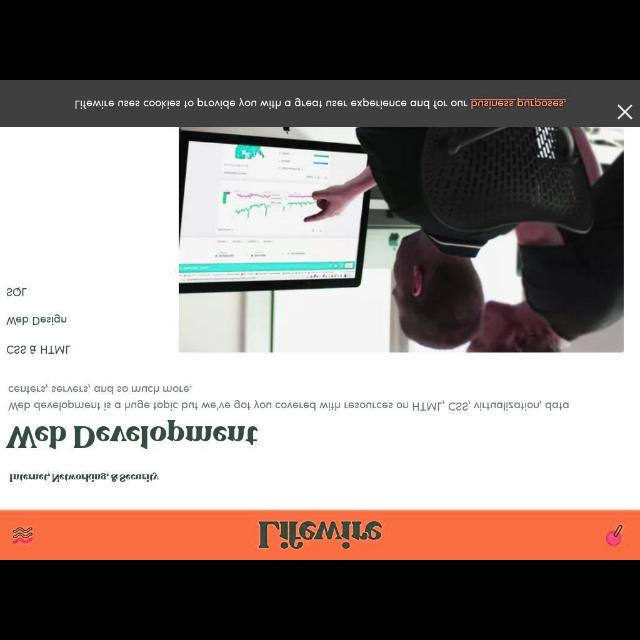icon: (618, 103, 632, 121)
image: (180, 128, 624, 354), (258, 518, 384, 552), (12, 524, 36, 546), (604, 524, 624, 546)
panel: (1, 82, 640, 126)
text: (6, 382, 572, 412), (7, 419, 259, 448), (72, 97, 570, 109), (6, 471, 160, 483), (5, 342, 71, 356), (6, 313, 70, 325), (6, 286, 28, 298)
